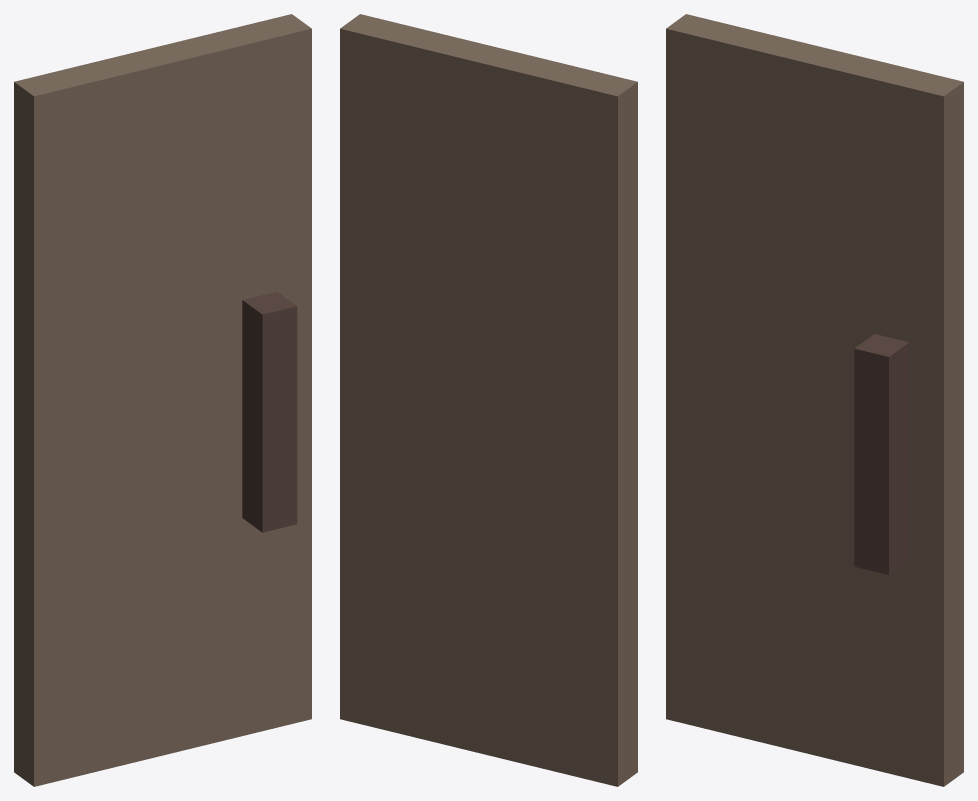
The model's file is wardrobe_modular_03.fbx.
The picture shows the model from 3 angles, left to right: view 1: azimuth 30°, elevation 25°; view 2: azimuth 150°, elevation 25°; view 3: azimuth 330°, elevation 25°; orthographic projection.
Visible parts, largest first — view 1: wardrobe_modular_03_0; view 2: wardrobe_modular_03_0; view 3: wardrobe_modular_03_0.
Boxes of the visible parts, bbox=[...] form: wardrobe_modular_03_0: bbox=[14, 14, 311, 786]; wardrobe_modular_03_0: bbox=[340, 14, 637, 786]; wardrobe_modular_03_0: bbox=[666, 14, 963, 786].
Bounding box in the file's own units: 800 × 200 × 1900.
